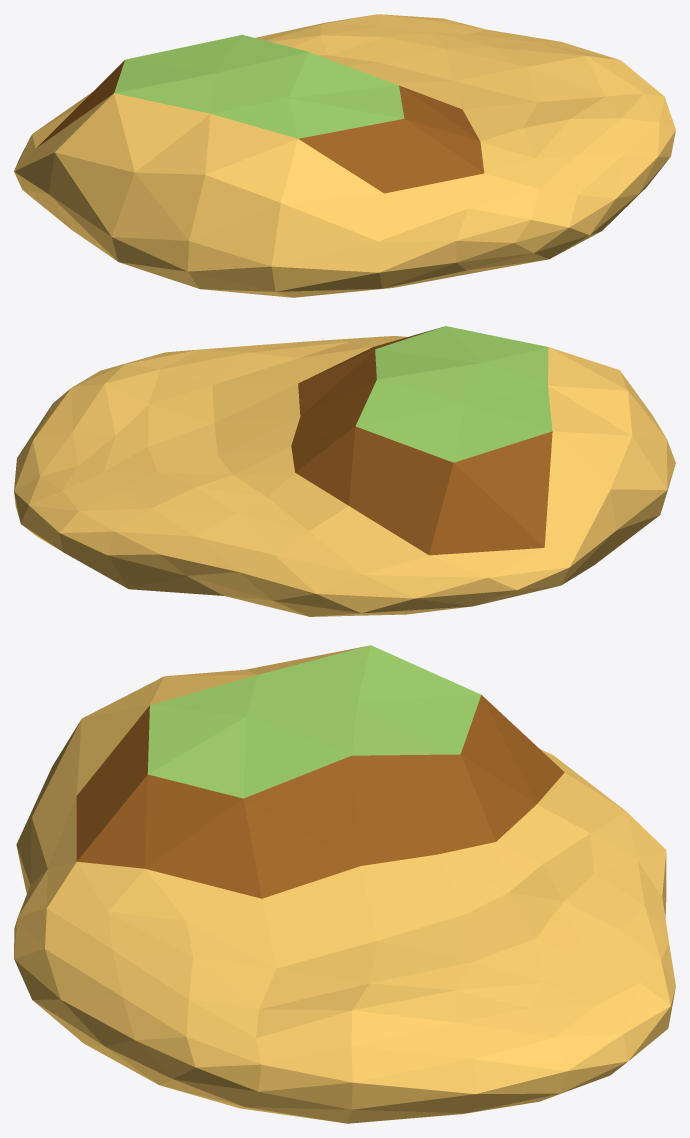
The model's file is Island_E01_Small02_Model.fbx.
3 renders of one model, top to bottom at view 1: azimuth 30°, elevation 25°; view 2: azimuth 150°, elevation 25°; view 3: azimuth 270°, elevation 25°, orthographic. The views are drawn at different scales.
Visible parts, largest first — view 1: Island_E_Small02; view 2: Island_E_Small02; view 3: Island_E_Small02.
Boxes of the visible parts, x1,y1,x2,y2 form: Island_E_Small02: [14, 14, 675, 297]; Island_E_Small02: [14, 326, 675, 616]; Island_E_Small02: [14, 645, 675, 1123].
Bounding box in the file's own units: 30.95 × 8.05 × 24.77.
